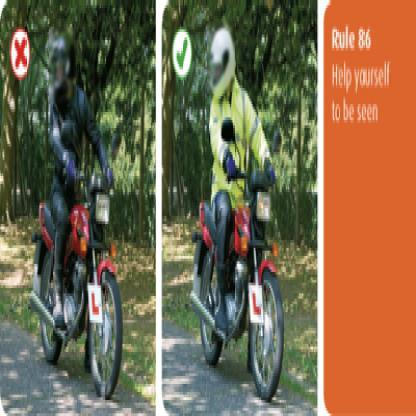Helmet: (203, 26, 246, 97), (45, 34, 78, 101)
